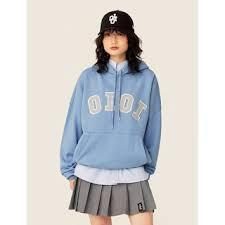skirt: (68, 166, 157, 220)
sweater: (61, 60, 163, 183)
